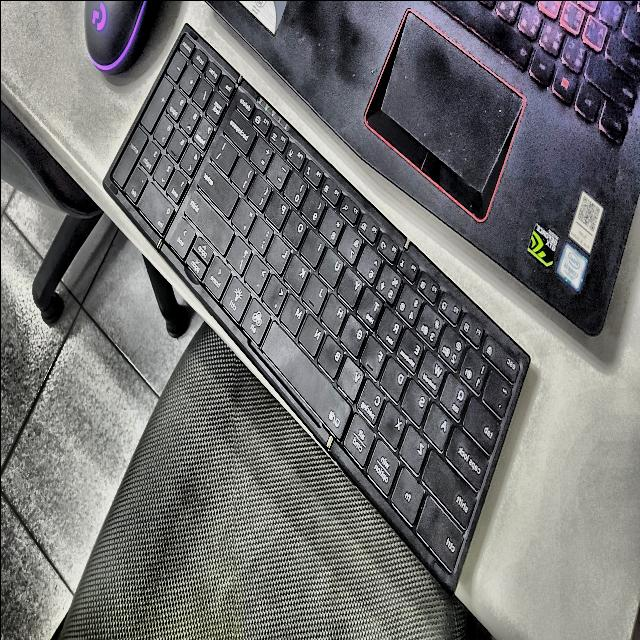Keyboard: (103, 24, 527, 588)
Laptop: (211, 0, 640, 334)
MOUSE: (84, 0, 161, 73)
